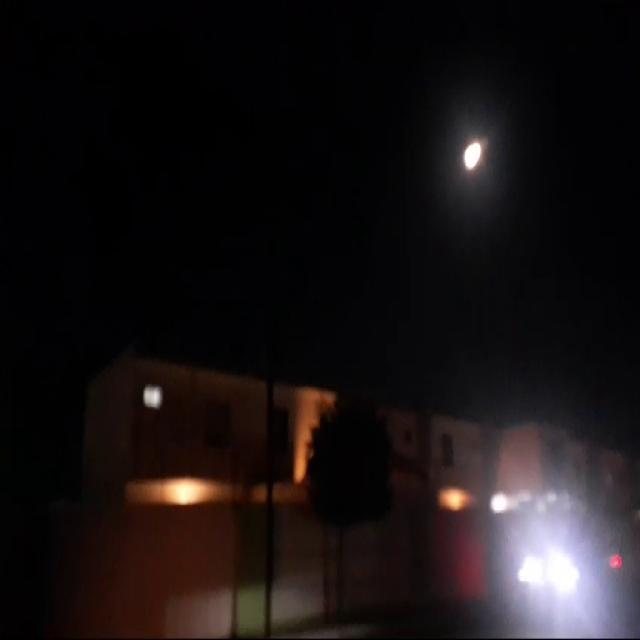moon: (456, 146, 476, 180)
